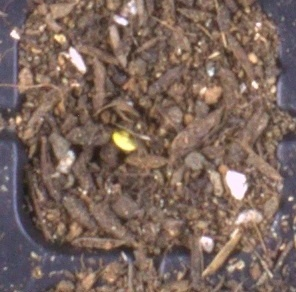chilli seed: (111, 130, 137, 153)
